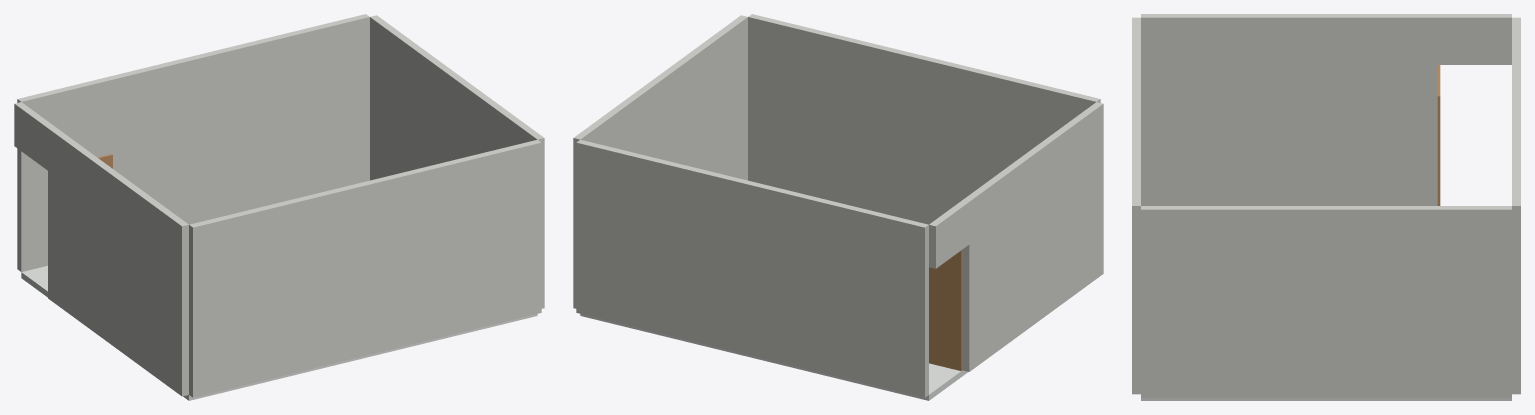
3 renders of one model, left to right at view 1: azimuth 30°, elevation 25°; view 2: azimuth 150°, elevation 25°; view 3: azimuth 270°, elevation 25°, orthographic. The views are drawn at different scales.
Parts seen in each view (by area): view 1: room:north:full, room:south:full, room:west:high, room:east:full, room:west:lintel, room:floor; view 2: room:south:full, room:north:full, room:west:high, room:east:full, door:leaf, room:west:lintel, room:floor; view 3: room:east:full, room:west:high, room:west:lintel, room:south:full, room:north:full, room:floor, door:leaf.
Boxes of the visible parts, <box> form: room:north:full: <box>189,139,541,397</box>; room:south:full: <box>17,14,369,271</box>; room:west:high: <box>48,126,188,396</box>; room:east:full: <box>370,15,544,308</box>; room:west:lintel: <box>14,102,54,170</box>; room:floor: <box>21,265,537,400</box>; room:south:full: <box>576,139,928,397</box>; room:north:full: <box>748,14,1100,224</box>; room:west:high: <box>962,102,1103,371</box>; room:east:full: <box>573,15,747,308</box>; door:leaf: <box>929,250,962,370</box>; room:west:lintel: <box>929,200,969,268</box>; room:floor: <box>580,314,967,400</box>; room:east:full: <box>1141,206,1511,397</box>; room:west:high: <box>1141,14,1437,205</box>; room:west:lintel: <box>1437,14,1511,64</box>; room:south:full: <box>1512,17,1520,394</box>; room:north:full: <box>1132,17,1140,394</box>; room:floor: <box>1141,398,1511,400</box>; door:leaf: <box>1437,65,1440,205</box>.
Bounding box in the file's own units: 6.24 × 2.9 × 5.24.
